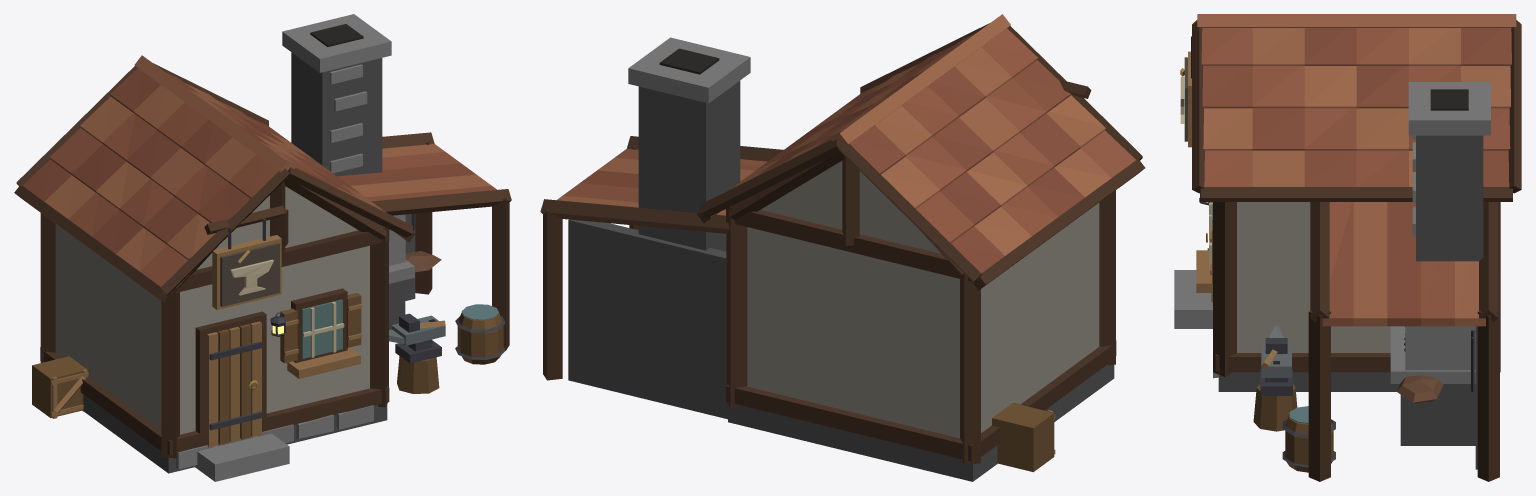
Rendered from town_blacksmith_a.glb.
3 renders of one model, left to right at view 1: azimuth 30°, elevation 25°; view 2: azimuth 150°, elevation 25°; view 3: azimuth 270°, elevation 25°, orthographic. The views are drawn at different scales.
Parts seen in each view (by area): view 1: town_blacksmith_a; view 2: town_blacksmith_a; view 3: town_blacksmith_a.
Boxes of the visible parts, bbox=[...] form: town_blacksmith_a: bbox=[14, 14, 511, 481]; town_blacksmith_a: bbox=[540, 14, 1145, 481]; town_blacksmith_a: bbox=[1174, 14, 1521, 481].
Size of the model in its own units: 5.02 by 3.37 by 3.29.
